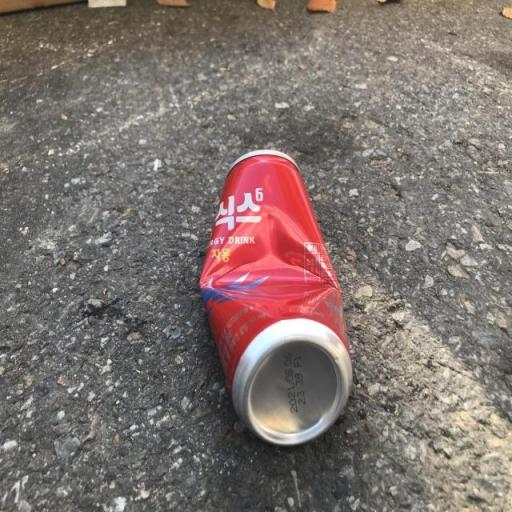metal: (166, 130, 393, 488)
